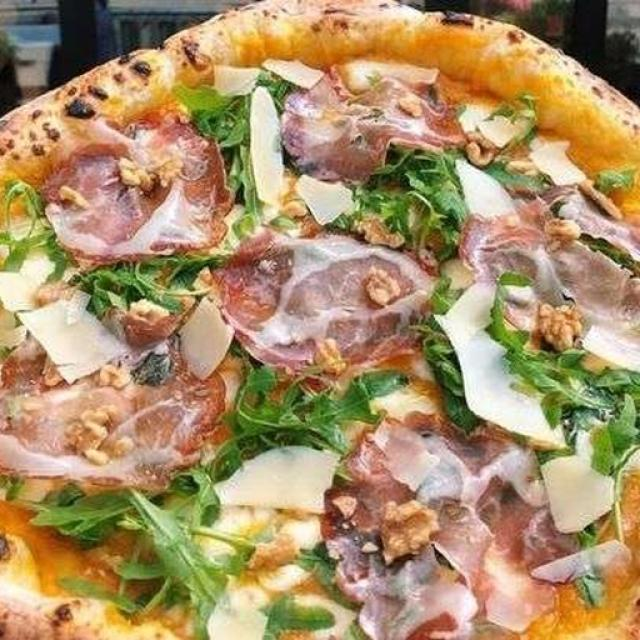cheese: (413, 283, 567, 461), (228, 87, 302, 216), (30, 288, 132, 381), (538, 426, 612, 538), (220, 450, 344, 512), (157, 302, 254, 380), (338, 50, 458, 103), (438, 160, 522, 232), (512, 132, 596, 199), (209, 564, 275, 640), (202, 56, 284, 104), (456, 96, 526, 152), (247, 51, 333, 95), (293, 170, 353, 228), (375, 381, 446, 423), (0, 258, 47, 318)
pizza: (1, 0, 640, 640)
